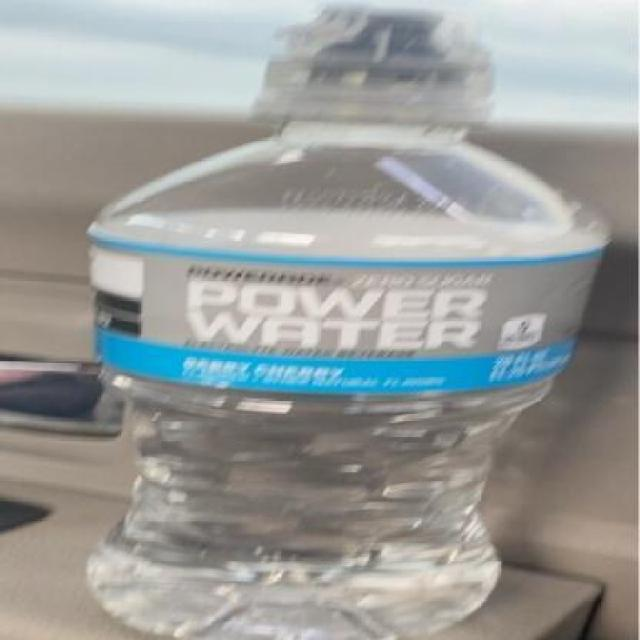bottle: (6, 0, 639, 640)
